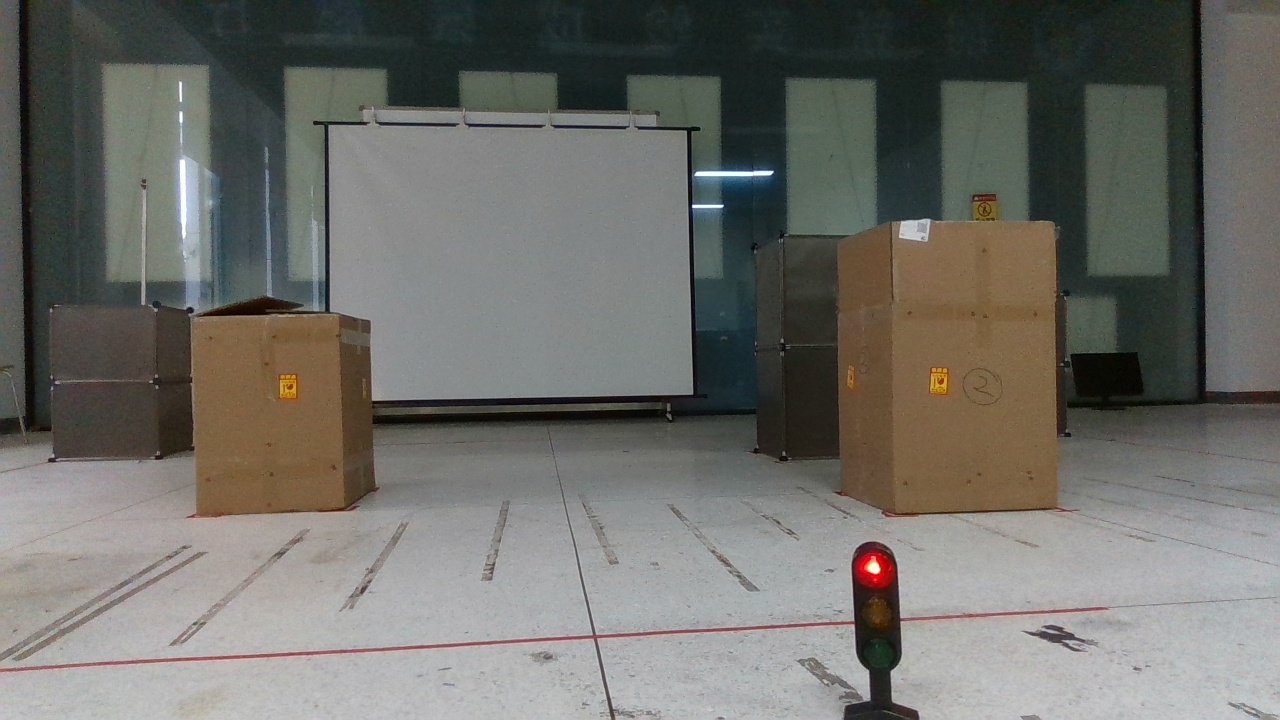red_light: (823, 530, 931, 720)
